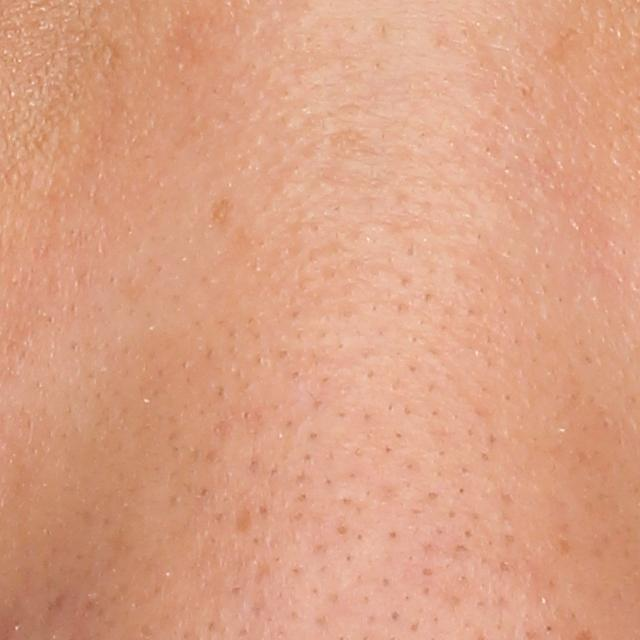melasma: (204, 190, 235, 230)
